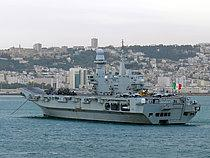MIL_Ship: (18, 46, 202, 126)
